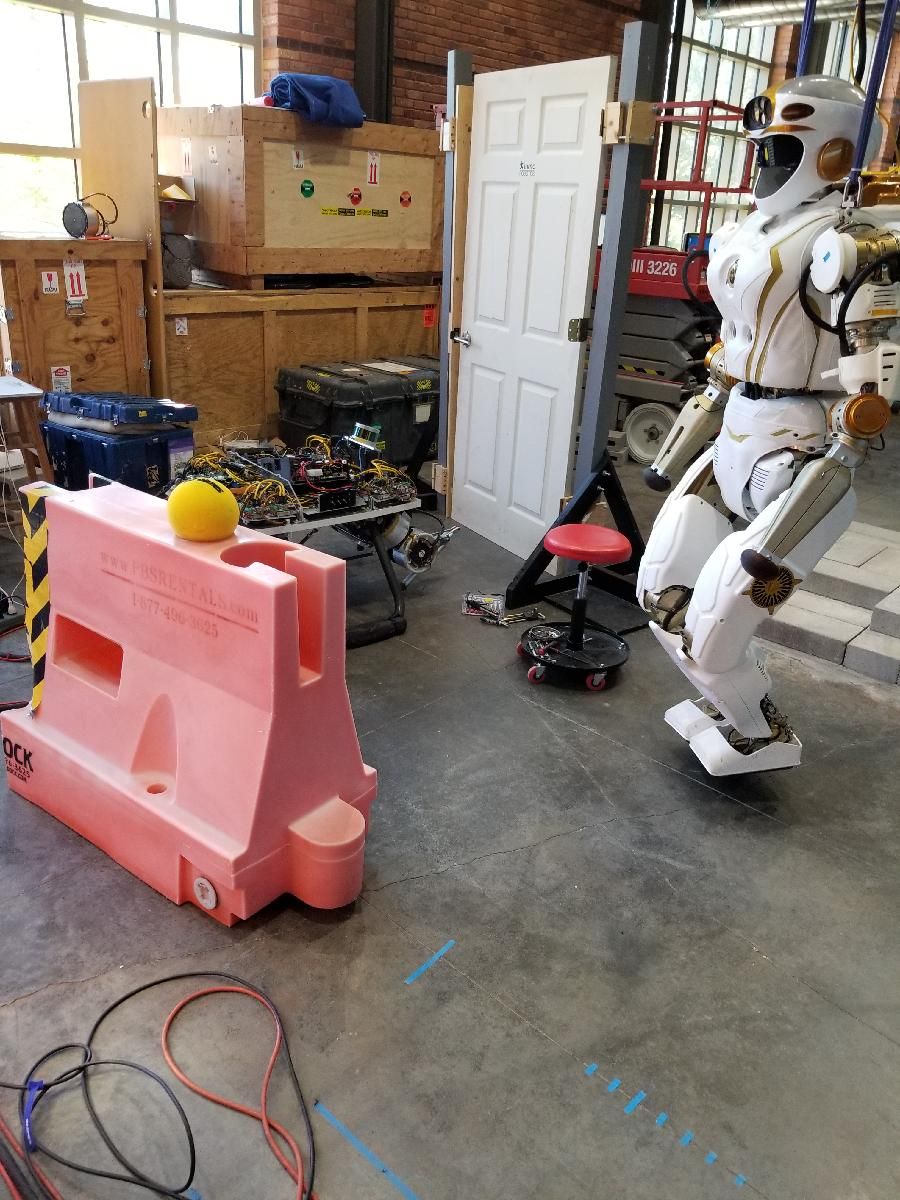door: (445, 52, 622, 582)
doorHandle: (460, 331, 481, 345)
